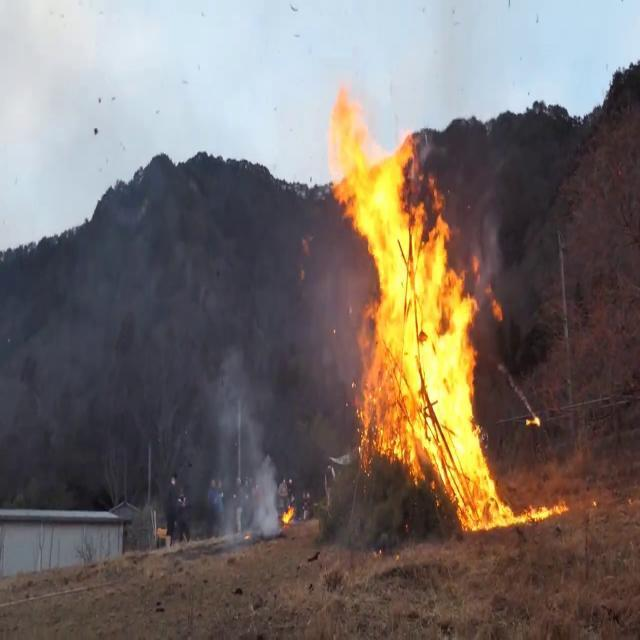Fire: (325, 74, 505, 535), (506, 492, 571, 530), (278, 502, 298, 534)
Smoke: (197, 308, 292, 544)
